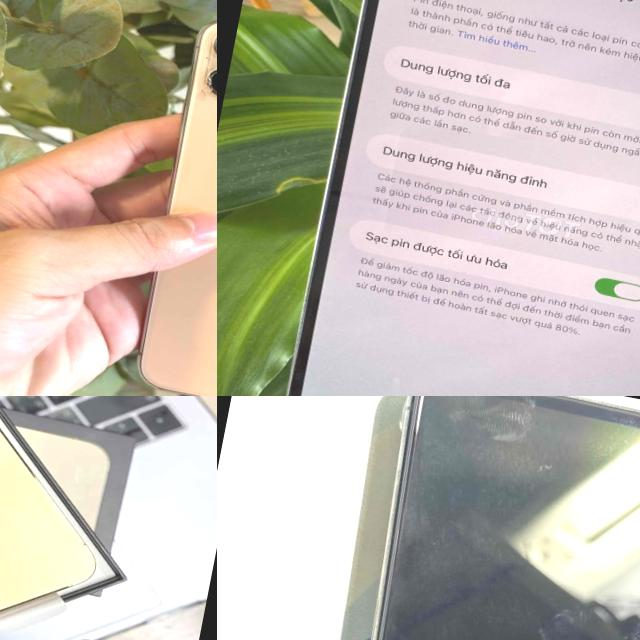scratch: (528, 452, 564, 489)
